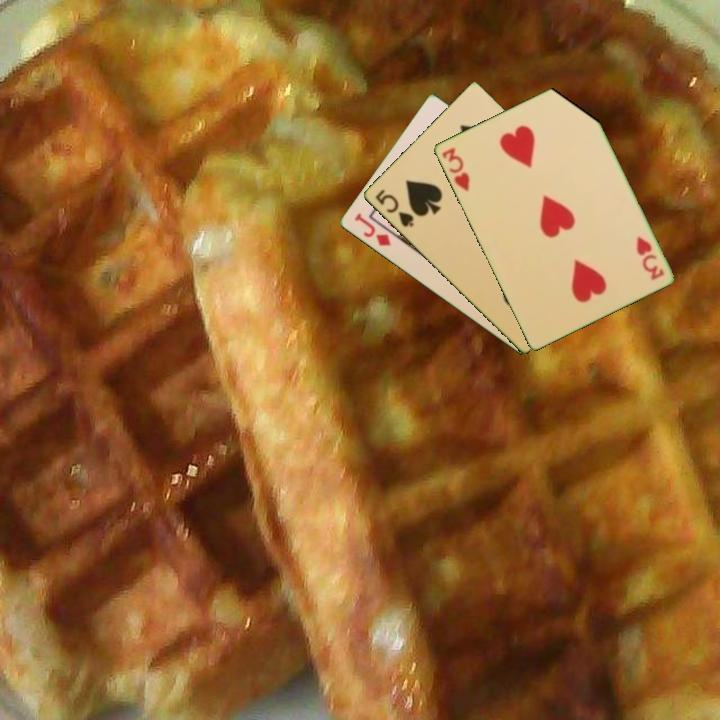3h: (632, 233, 667, 283), (438, 144, 472, 194)
5s: (371, 186, 416, 230)
Jd: (350, 209, 393, 249)
